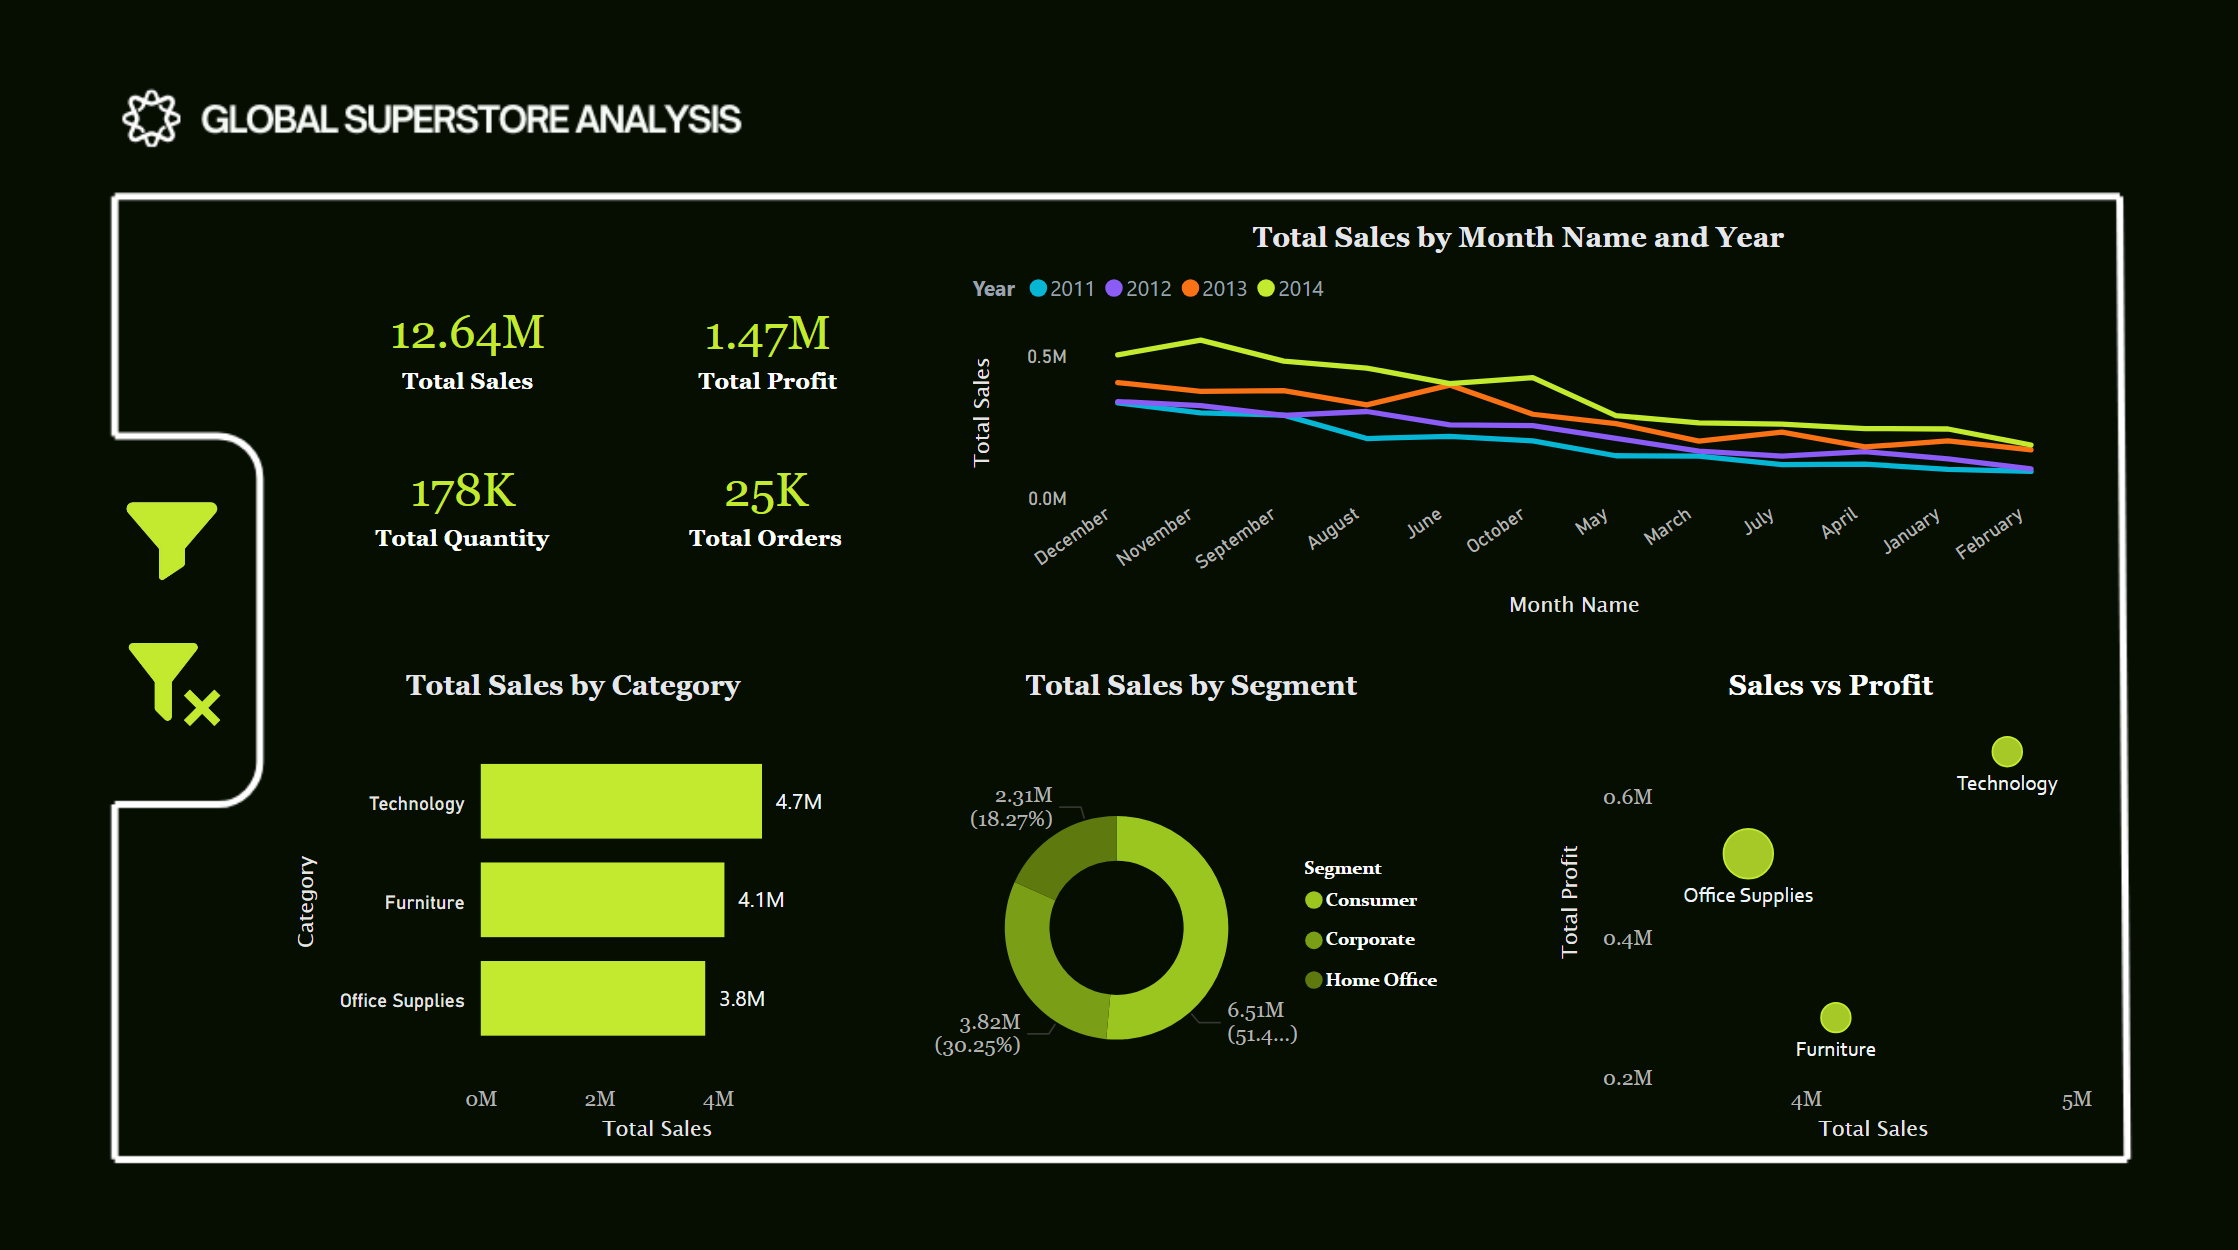

The page's visual inventory and layout, read from the dashboard file:
{"tool":"powerbi","page":{"name":"Page 1","canvas":[1280,720],"ordinal":0},"visuals":[{"type":"lineChart","fields":{"Y":["Fact_Sales.Total Sales"],"Category":["Dim_Date.Month Name"],"Series":["Dim_Date.Year"]},"box":[550.5,128.4,630.7,232.1],"z":0},{"type":"card","fields":{"Values":["Fact_Sales.Total Profit"]},"box":[369.1,160.5,140.7,76.5],"z":0},{"type":"card","fields":{"Values":["Fact_Sales.Total Sales"]},"box":[197.5,162.9,140.7,71.6],"z":1000},{"type":"clusteredBarChart","fields":{"Category":["Dim_Product.Category"],"Y":["Fact_Sales.Total Sales"]},"box":[166.6,383.9,324.6,275.3],"z":1000},{"type":"card","fields":{"Values":["Fact_Sales.Total Orders"]},"box":[367.8,249.3,140.7,77.8],"z":2000},{"type":"donutChart","fields":{"Category":["Dim_Customer.Segment"],"Y":["Fact_Sales.Total Sales"]},"box":[525.8,383.9,308.6,275.3],"z":2000},{"type":"card","fields":{"Values":["Fact_Sales.Total Quantity"]},"box":[197.5,249.3,134.5,77.8],"z":3000},{"type":"scatterChart","title":"Sales vs Profit","fields":{"Category":["Dim_Product.Category"],"Y":["Fact_Sales.Total Profit"],"X":["Fact_Sales.Total Sales"],"Size":["Fact_Sales.Total Quantity"]},"box":[885,383.9,317.2,275.3],"z":3000},{"type":"image","box":[70.4,279,59.2,59.2],"z":6000},{"type":"image","box":[70.4,360.4,59.2,59.2],"z":7000}]}

Visuals, with their boxes in screenshot pixels (x1, y1, x2, y2), scaled from the page's 1280x720 canvas onto the 2238x1250 screenshot:
lineChart - Fact_Sales.Total Sales x Dim_Date.Month Name: {"x1": 963, "y1": 223, "x2": 2065, "y2": 626}
card - Fact_Sales.Total Profit: {"x1": 645, "y1": 279, "x2": 891, "y2": 411}
card - Fact_Sales.Total Sales: {"x1": 345, "y1": 283, "x2": 591, "y2": 407}
clusteredBarChart - Dim_Product.Category x Fact_Sales.Total Sales: {"x1": 291, "y1": 666, "x2": 859, "y2": 1144}
card - Fact_Sales.Total Orders: {"x1": 643, "y1": 433, "x2": 889, "y2": 568}
donutChart - Dim_Customer.Segment x Fact_Sales.Total Sales: {"x1": 919, "y1": 666, "x2": 1459, "y2": 1144}
card - Fact_Sales.Total Quantity: {"x1": 345, "y1": 433, "x2": 580, "y2": 568}
"Sales vs Profit" scatterChart: {"x1": 1547, "y1": 666, "x2": 2102, "y2": 1144}
image: {"x1": 123, "y1": 484, "x2": 227, "y2": 587}
image: {"x1": 123, "y1": 626, "x2": 227, "y2": 728}
